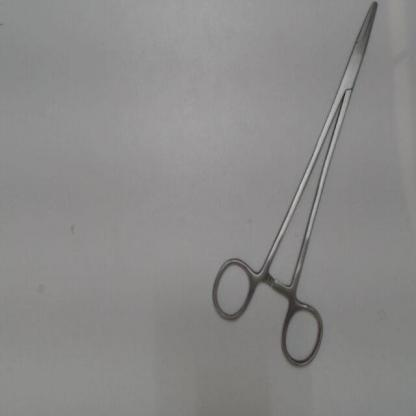8 Mayo Needle Holder: (204, 0, 386, 379)
